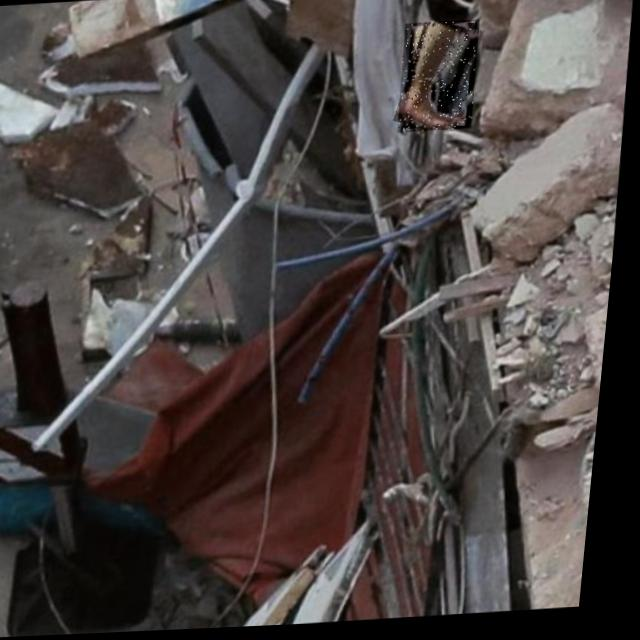Person in Rubble: (398, 23, 482, 136)
